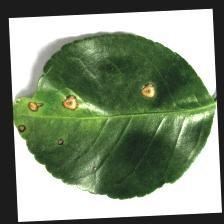canker: (15, 70, 163, 143)
